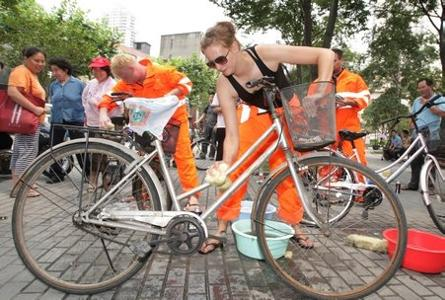person: (197, 22, 337, 253)
